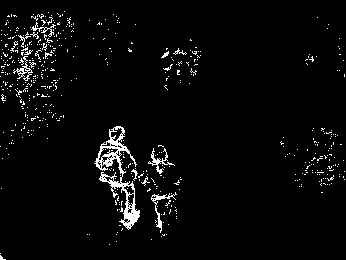person: (94, 121, 143, 234), (140, 142, 183, 232)
